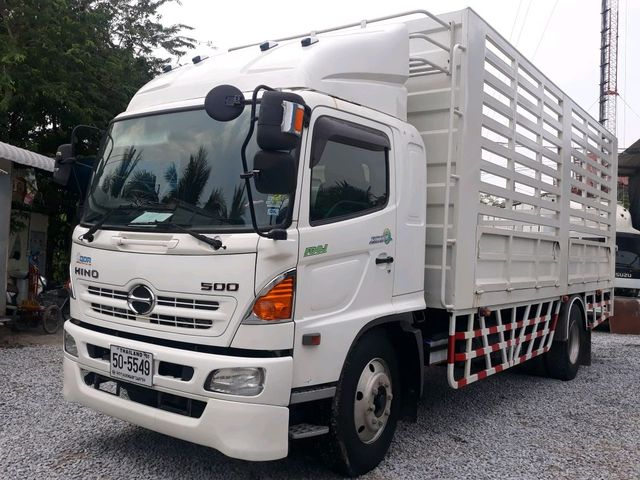truck: (67, 7, 616, 472)
